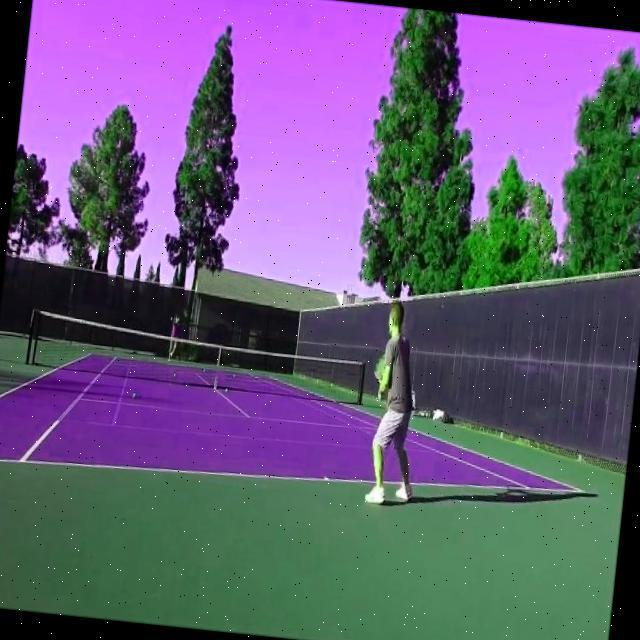court: (0, 344, 594, 523)
net: (23, 310, 368, 406)
player: (360, 298, 433, 507)
